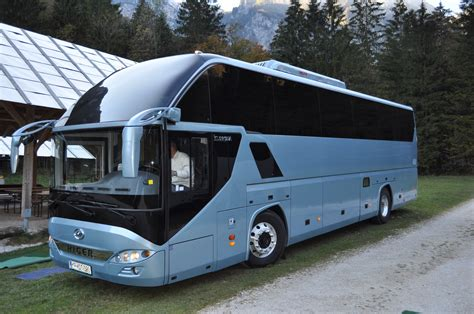bus: (47, 55, 418, 279)
